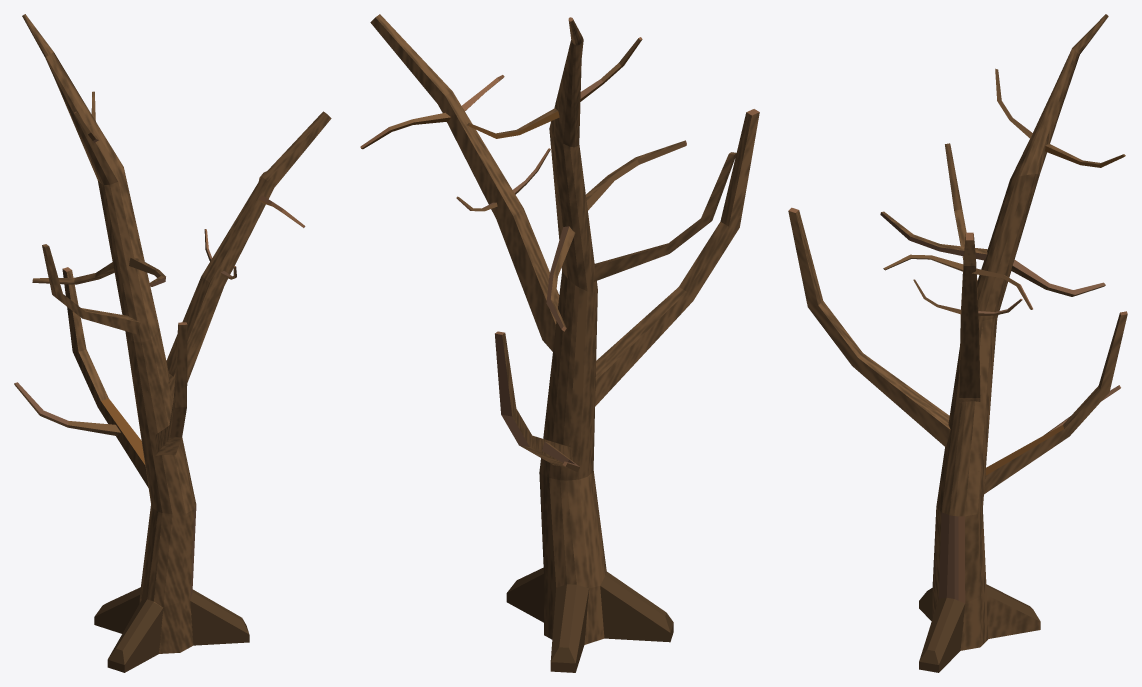
Rendered from deadTree.glb.
3 views of the same model, side by side, from view 1: azimuth 30°, elevation 25°; view 2: azimuth 150°, elevation 25°; view 3: azimuth 270°, elevation 25° (orthographic). The views are drawn at different scales.
Visible parts, largest first — view 1: _11_tree; view 2: _11_tree; view 3: _11_tree.
Part boxes in pixels (x1,y1,x2,y2): _11_tree: [14, 14, 331, 672]; _11_tree: [360, 14, 759, 672]; _11_tree: [788, 14, 1127, 672].
Bounding box in the file's own units: 1.09 × 2.06 × 1.07.
1 material, 1 textured.
